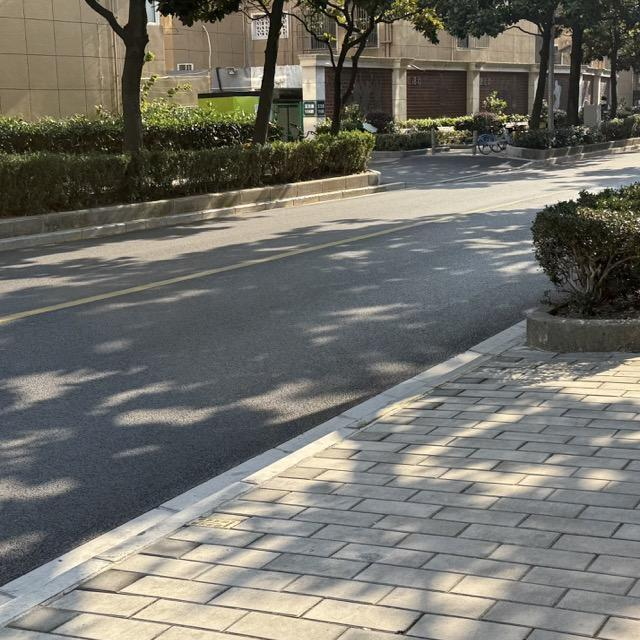curb: (0, 326, 525, 628), (0, 182, 402, 251), (0, 171, 379, 237), (526, 307, 639, 353), (505, 138, 640, 165)
